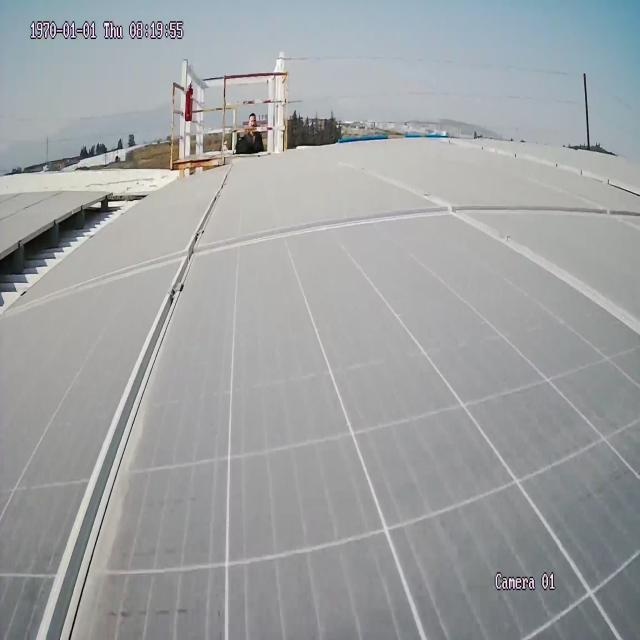interior panel: (0, 152, 640, 640)
outher panel: (0, 191, 158, 331)
